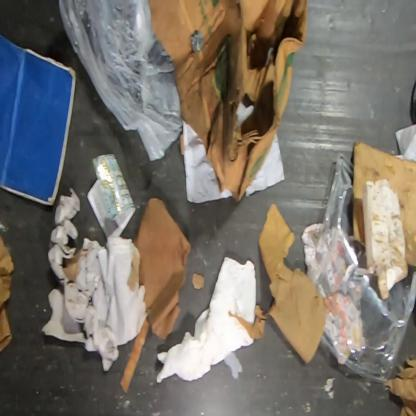cardboard: (146, 0, 308, 205), (61, 197, 192, 394), (229, 203, 326, 366), (0, 31, 77, 208), (353, 139, 415, 290), (0, 229, 15, 354), (190, 272, 206, 290)
rigid_plastic: (306, 148, 416, 386)
soft_plastic: (56, 0, 184, 162)
